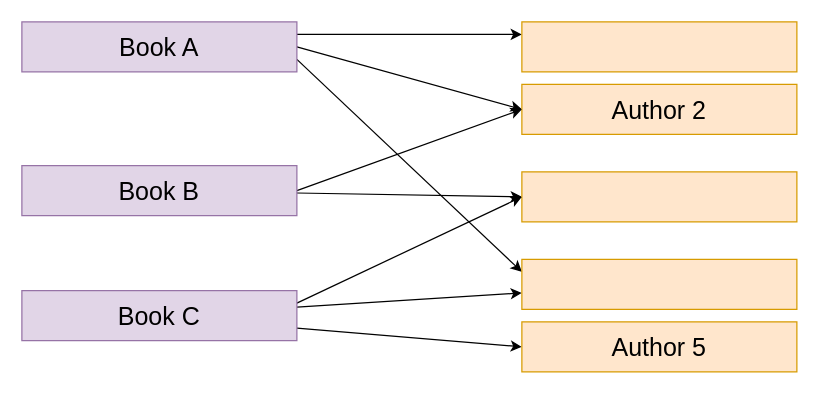
The diagram is 819 pixels wide and 394 high, and some of its shapes have lost their labels. The shapes that lost their labels are listed below. From the top down, each one's centre as x and y in pixels, then its label:
At pixel 659 46: "Author 1".
At pixel 659 196: "Author 3".
At pixel 659 283: "Author 4".
